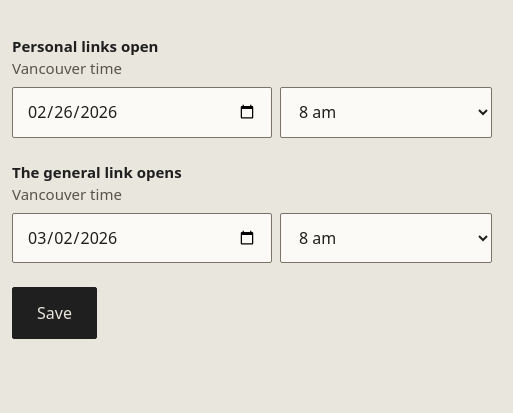
Test: OpeningForm (A7b) › a moved hour sends only that release, in UTC, and says Saved.
Select "noon" in the dropdown named "The general link opens time" at (386, 238), box [280,213,492,263]
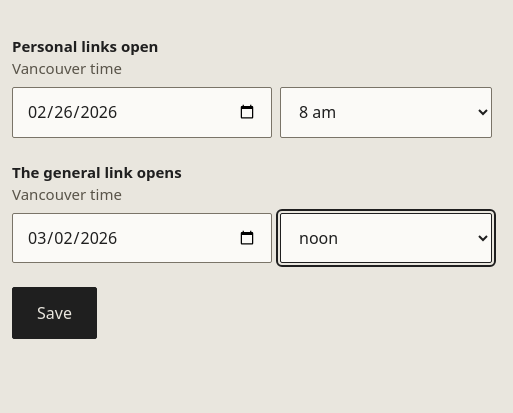
Click the button "Save" at (54, 313), box [12,287,97,339]
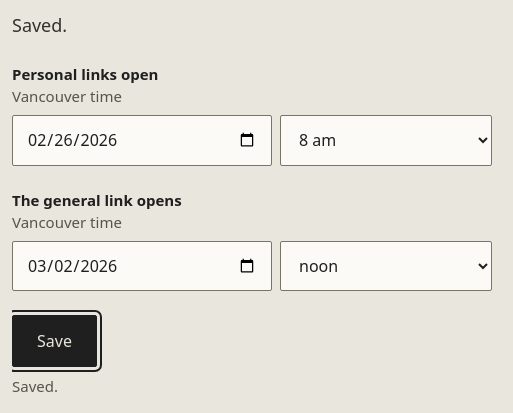
Now the text "Saved." below "The general link opens" is shown, box [12,376,58,396]
